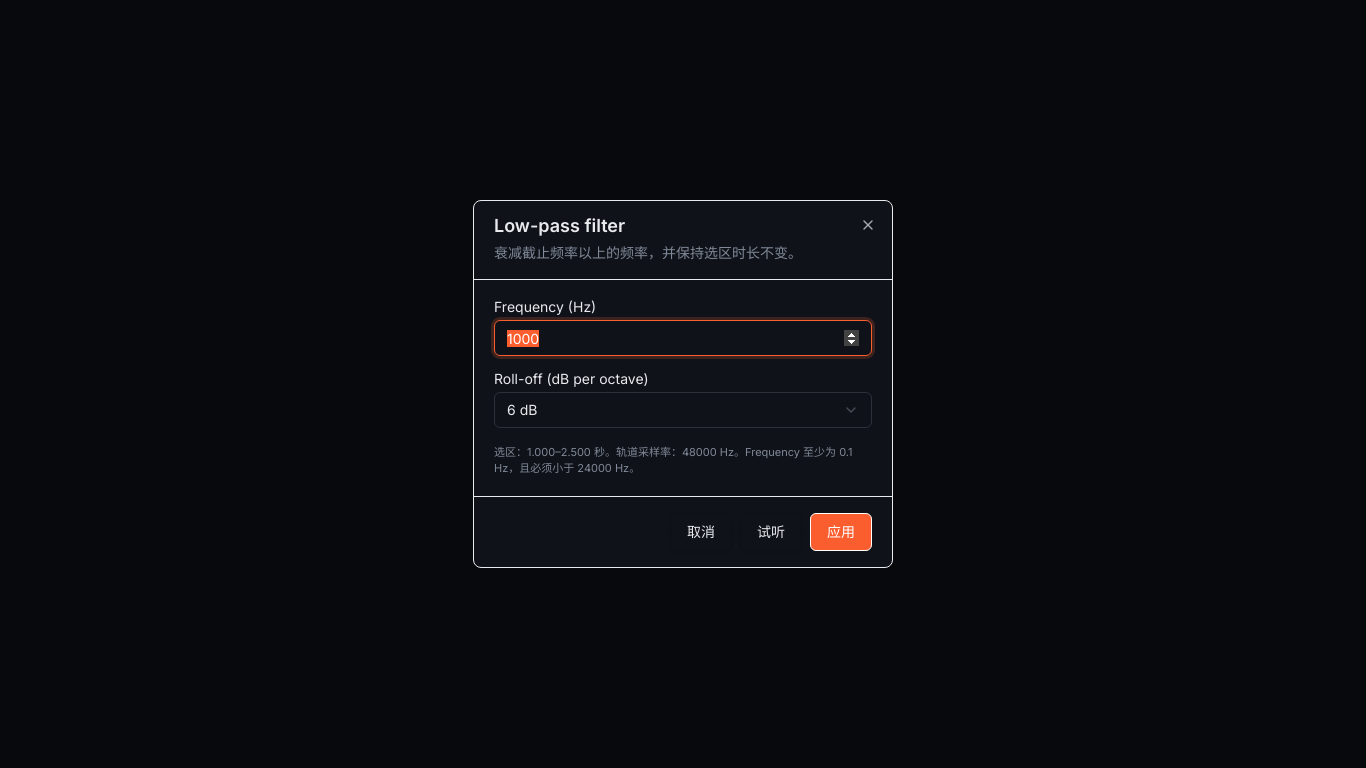
Test case: PassFilterDialog › rejects invalid frequency 24000 and disables actions
Replace the text in the number field labelled "Frequency (Hz)" with "24000" at (683, 338), box [494, 320, 872, 356]
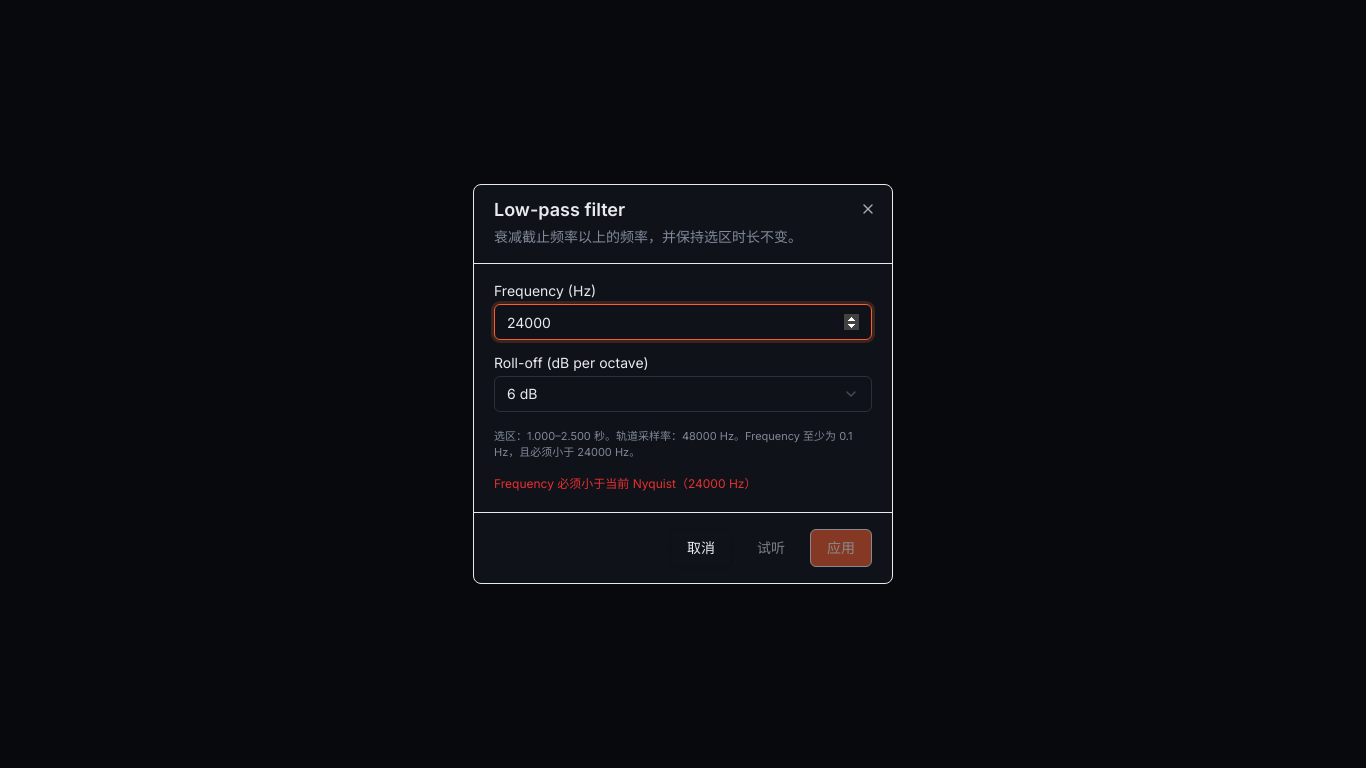
Expected: the message "Frequency 必须小于当前 Nyquist（24000 Hz）" is shown, [494, 476, 756, 491]
Expected: the button "试听" is disabled, [740, 529, 802, 567]
Expected: the button "应用" is disabled, [810, 529, 872, 567]
